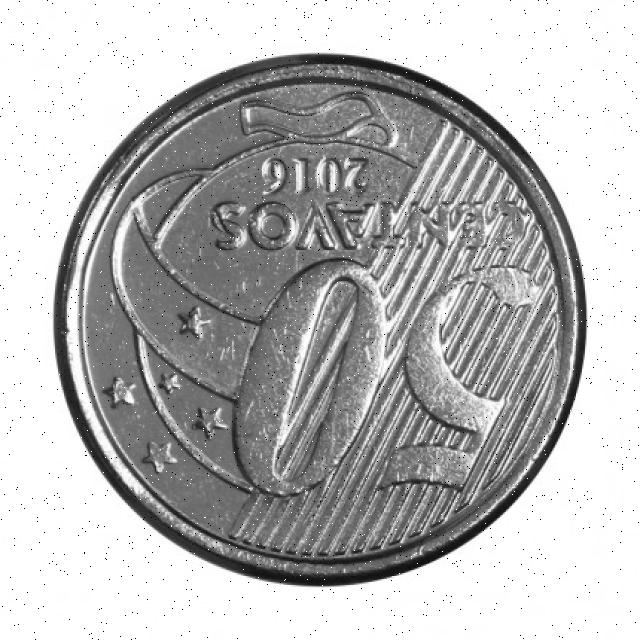50 cent: (49, 51, 582, 585)
